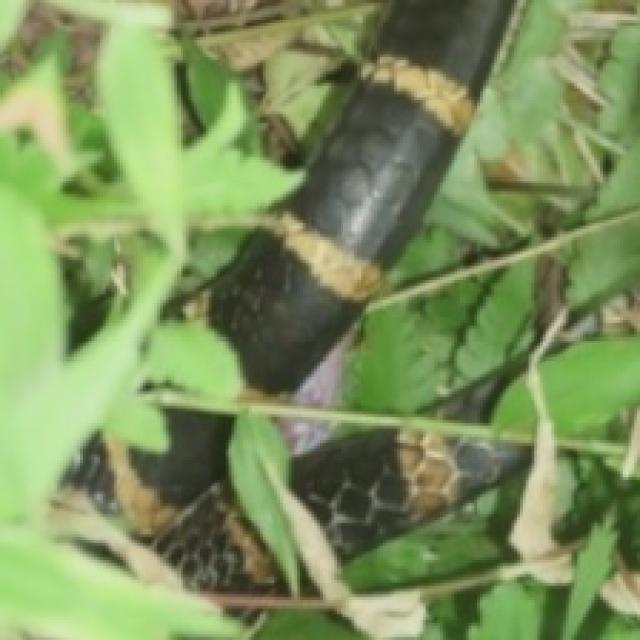king cobra: (229, 243, 551, 634), (291, 3, 494, 266), (437, 320, 569, 629), (346, 337, 403, 406)
